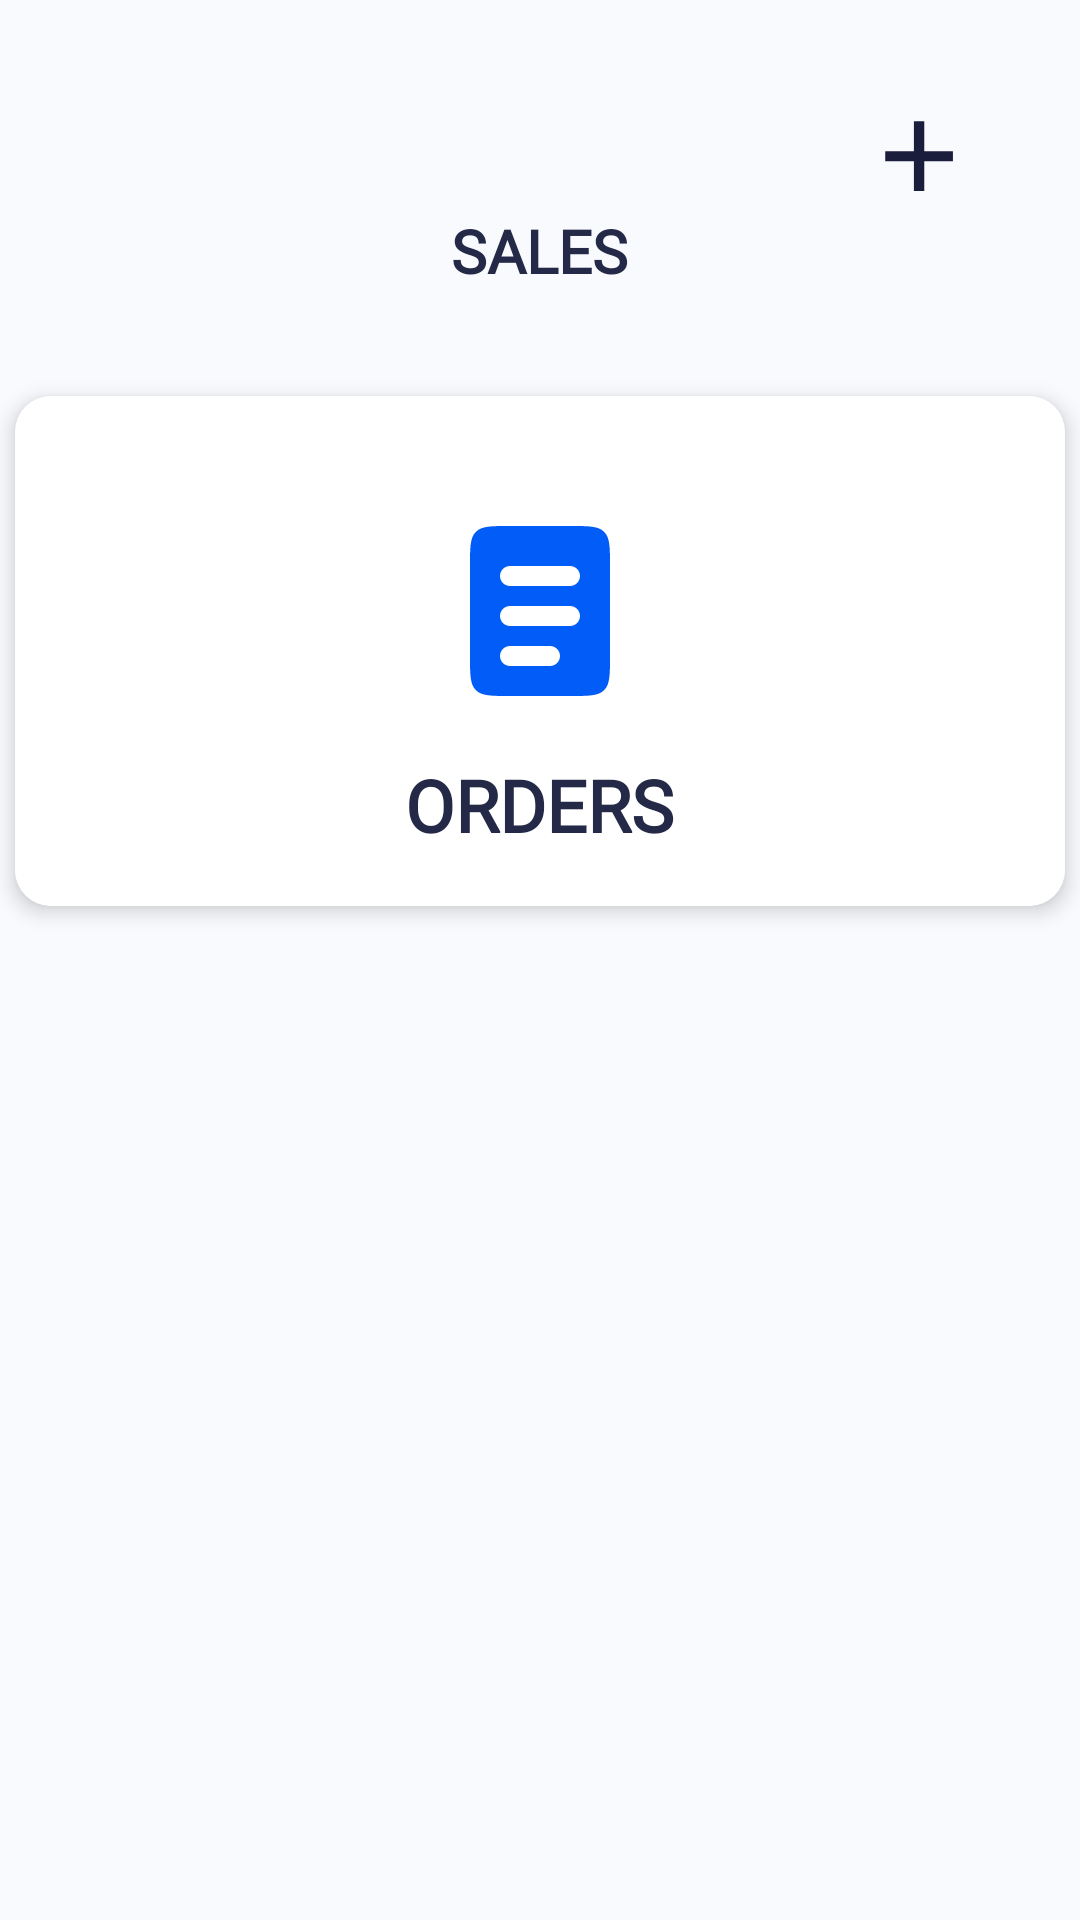

Icons on this 1080w x 1920h Android screen, each with its box as (x1, y1, x2, y2):
Add Icon: (885, 121, 953, 191)
